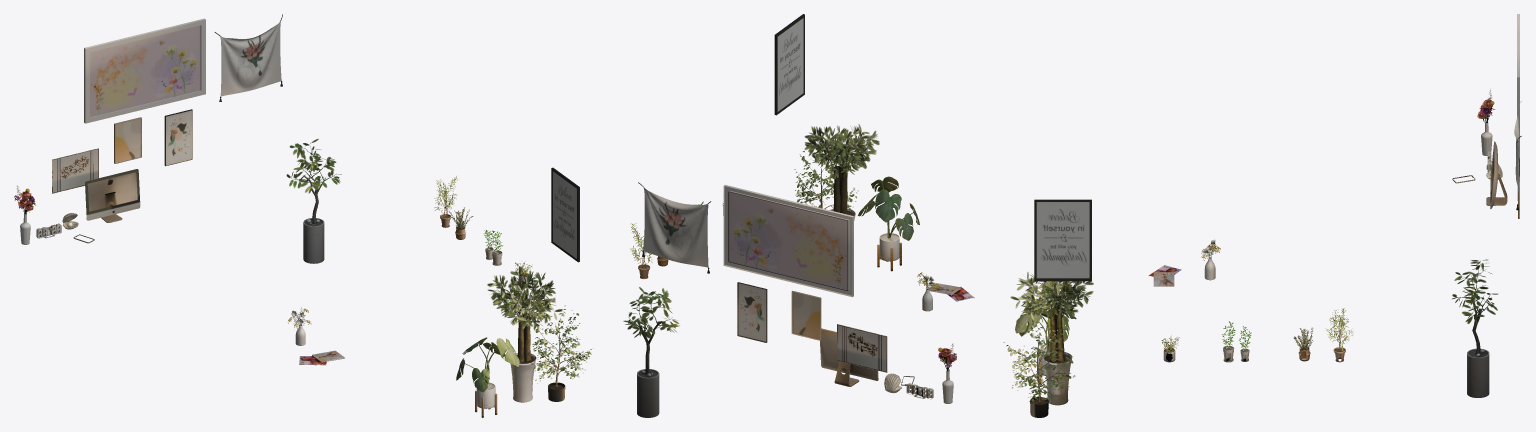
File: Light_Second.glb
3 renders of one model, left to right at view 1: azimuth 30°, elevation 25°; view 2: azimuth 150°, elevation 25°; view 3: azimuth 270°, elevation 25°, orthographic. The views are drawn at different scales.
Parts seen in each view (by area): view 1: Light_Second_Baked; view 2: Light_Second_Baked; view 3: Light_Second_Baked.
Boxes of the visible parts, x1,y1,x2,y2 form: Light_Second_Baked: (14,14,593,417); Light_Second_Baked: (623,14,974,417); Light_Second_Baked: (1003,14,1521,417).
Size of the model in its own units: 3.44 by 2.2 by 3.82.
1 material, 1 textured.
